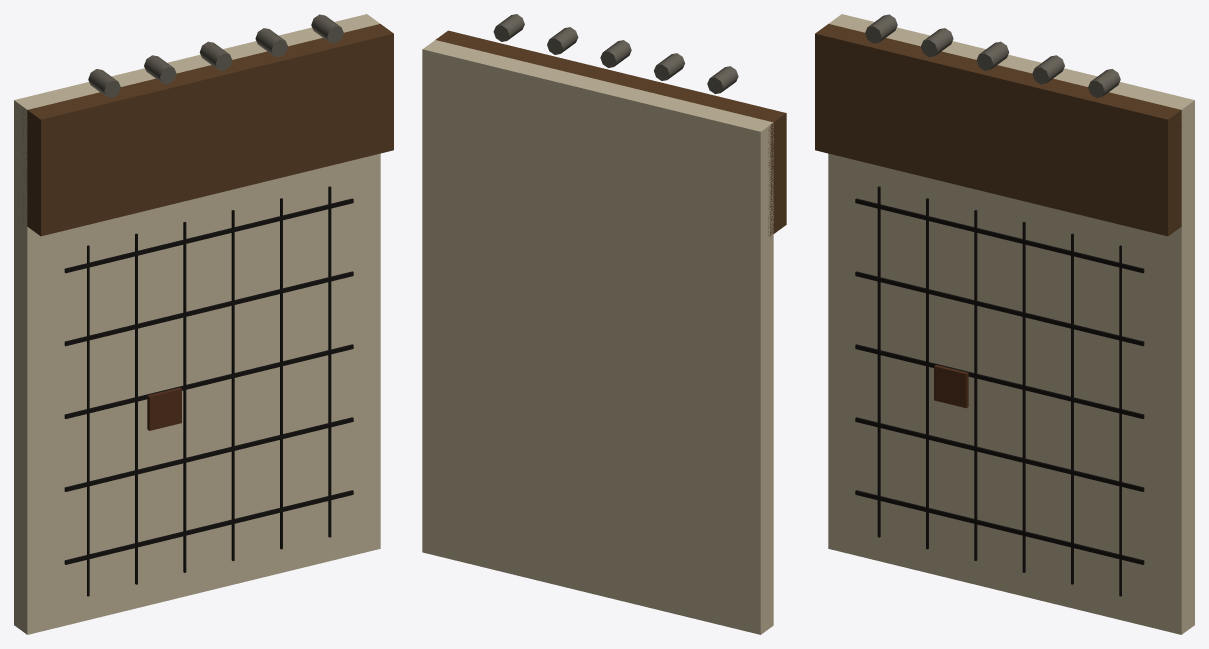
The model's file is wall_calendar_august.glb.
The picture shows the model from 3 angles, left to right: view 1: azimuth 30°, elevation 25°; view 2: azimuth 150°, elevation 25°; view 3: azimuth 330°, elevation 25°; orthographic projection. The views are drawn at different scales.
Parts seen in each view (by area): view 1: paper__backing, wood__header, dark__calendar_row, _MeshInstance3D_189, _MeshInstance3D_186, _MeshInstance3D_188, _MeshInstance3D_187, _MeshInstance3D_194, _MeshInstance3D_191, _MeshInstance3D_192, rust__marked_day_9, _MeshInstance3D_193 (+7 smaller); view 2: paper__backing, wood__header, metal__wire_binding, _MeshInstance3D_195, _MeshInstance3D_196, _MeshInstance3D_198, _MeshInstance3D_197; view 3: paper__backing, wood__header, dark__calendar_row, _MeshInstance3D_189, _MeshInstance3D_186, _MeshInstance3D_188, _MeshInstance3D_187, _MeshInstance3D_192, dark__calendar_column, _MeshInstance3D_191, rust__marked_day_9, _MeshInstance3D_194 (+7 smaller).
Part boxes in pixels (bbox=[...]): paper__backing: bbox=[14, 14, 380, 634]; wood__header: bbox=[22, 24, 393, 236]; dark__calendar_row: bbox=[64, 198, 353, 273]; _MeshInstance3D_189: bbox=[64, 490, 353, 564]; _MeshInstance3D_186: bbox=[64, 271, 353, 346]; _MeshInstance3D_188: bbox=[64, 417, 353, 491]; _MeshInstance3D_187: bbox=[64, 344, 353, 418]; _MeshInstance3D_194: bbox=[328, 186, 331, 537]; _MeshInstance3D_191: bbox=[183, 222, 186, 572]; _MeshInstance3D_192: bbox=[231, 210, 234, 560]; rust__marked_day_9: bbox=[147, 387, 181, 430]; _MeshInstance3D_193: bbox=[280, 198, 282, 549]; paper__backing: bbox=[422, 40, 773, 634]; wood__header: bbox=[435, 30, 786, 237]; metal__wire_binding: bbox=[707, 66, 738, 93]; _MeshInstance3D_195: bbox=[654, 53, 684, 80]; _MeshInstance3D_196: bbox=[600, 40, 631, 67]; _MeshInstance3D_198: bbox=[493, 14, 524, 41]; _MeshInstance3D_197: bbox=[547, 27, 578, 54]; paper__backing: bbox=[828, 14, 1194, 634]; wood__header: bbox=[815, 24, 1181, 236]; dark__calendar_row: bbox=[855, 198, 1144, 273]; _MeshInstance3D_189: bbox=[855, 490, 1144, 564]; _MeshInstance3D_186: bbox=[855, 271, 1144, 346]; _MeshInstance3D_188: bbox=[855, 417, 1144, 491]; _MeshInstance3D_187: bbox=[855, 344, 1144, 418]; _MeshInstance3D_192: bbox=[1022, 222, 1025, 572]; dark__calendar_column: bbox=[877, 186, 880, 537]; _MeshInstance3D_191: bbox=[974, 210, 977, 560]; rust__marked_day_9: bbox=[934, 365, 968, 408]; _MeshInstance3D_194: bbox=[1119, 245, 1121, 596].
Size of the model in its own units: 0.38 by 0.569 by 0.0625.
